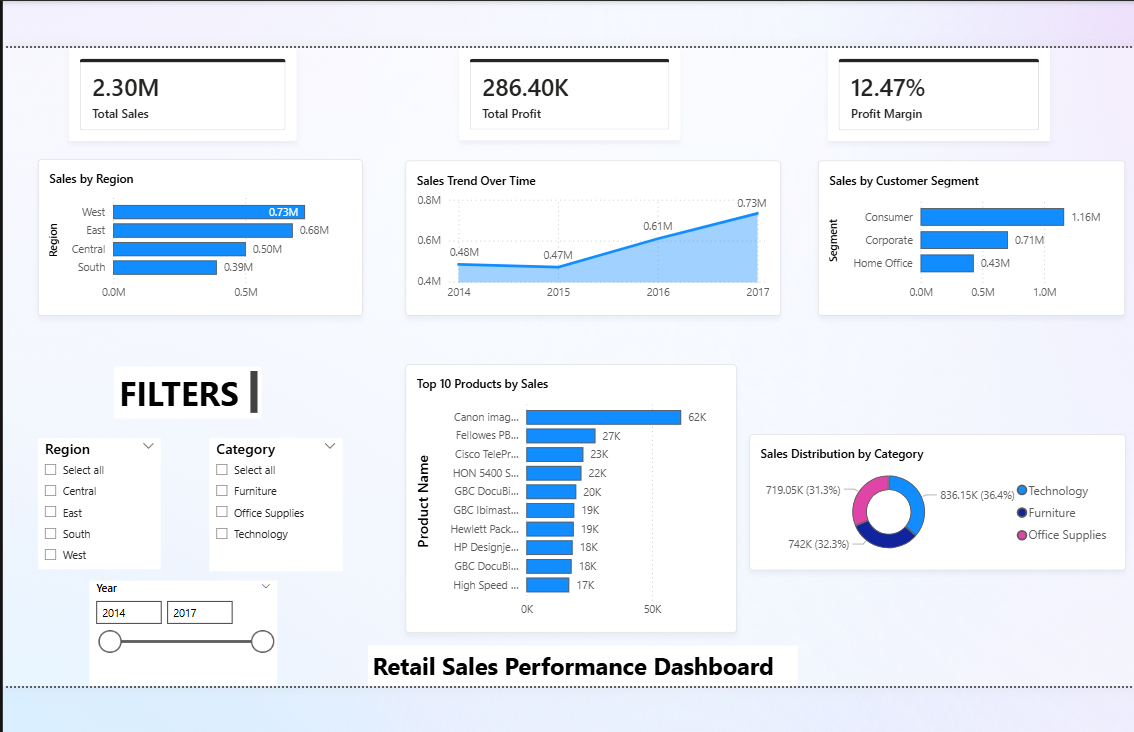

What the dashboard file says about the page in this screenshot:
{"tool":"powerbi","page":{"name":"Page 1","canvas":[1280,720],"ordinal":0},"visuals":[{"type":"cardVisual","fields":{"Data":["clean_superstore.Total Sales"]},"box":[75,0,256.7,105],"z":0},{"type":"cardVisual","fields":{"Data":["clean_superstore.Total Profit"]},"box":[514.7,0,249.6,104.3],"z":1000},{"type":"cardVisual","fields":{"Data":["clean_superstore.Profit Margin"]},"box":[930,0,250,105],"z":2000},{"type":"lineChart","title":"Sales Trend Over Time","fields":{"Category":["clean_superstore.Order Date.Variation.Date Hierarchy.Year","clean_superstore.Order Date.Variation.Date Hierarchy.Quarter","clean_superstore.Order Date.Variation.Date Hierarchy.Month","clean_superstore.Order Date.Variation.Date Hierarchy.Day"],"Y":["clean_superstore.Total Sales"]},"box":[453.3,126.7,423.3,175],"z":3000},{"type":"clusteredBarChart","title":"Sales by Region","fields":{"Y":["clean_superstore.Total Sales"],"Category":["clean_superstore.Region"]},"box":[40,125,366.7,176.7],"z":4000},{"type":"donutChart","title":"Sales Distribution by Category","fields":{"Category":["clean_superstore.Category"],"Y":["clean_superstore.Total Sales"]},"box":[841.7,435,425,153.3],"z":5000},{"type":"clusteredBarChart","title":"Top 10 Products by Sales","fields":{"Y":["clean_superstore.Total Sales"],"Category":["clean_superstore.Product Name"]},"box":[453.3,356.7,373.3,303.3],"z":6000},{"type":"barChart","title":"Sales by Customer Segment","fields":{"Category":["clean_superstore.Segment"],"Y":["clean_superstore.Total Sales"]},"box":[920,126.7,346.7,175],"z":7000},{"type":"slicer","fields":{"Values":["clean_superstore.Region"]},"box":[40,440,138.3,148.3],"z":8000},{"type":"slicer","fields":{"Values":["clean_superstore.Category"]},"box":[233.3,440,150,150],"z":9000},{"type":"slicer","fields":{"Values":["clean_superstore.Year"]},"box":[96.7,600,211.7,120],"z":10000},{"type":"textbox","box":[125,360,166.7,58.3],"z":11000},{"type":"textbox","box":[411.7,673.3,485,46.7],"z":11001}]}

Visuals, with their boxes on the page's 1280x720 design canvas (x1, y1, x2, y2). These are canvas units, not pixel positions in the 1134x732 screenshot, which may show the page scaled, cropped or inside an application window:
cardVisual - clean_superstore.Total Sales: [75, 0, 332, 105]
cardVisual - clean_superstore.Total Profit: [515, 0, 764, 104]
cardVisual - clean_superstore.Profit Margin: [930, 0, 1180, 105]
"Sales Trend Over Time" lineChart: [453, 127, 877, 302]
"Sales by Region" clusteredBarChart: [40, 125, 407, 302]
"Sales Distribution by Category" donutChart: [842, 435, 1267, 588]
"Top 10 Products by Sales" clusteredBarChart: [453, 357, 827, 660]
"Sales by Customer Segment" barChart: [920, 127, 1267, 302]
slicer - clean_superstore.Region: [40, 440, 178, 588]
slicer - clean_superstore.Category: [233, 440, 383, 590]
slicer - clean_superstore.Year: [97, 600, 308, 720]
textbox: [125, 360, 292, 418]
textbox: [412, 673, 897, 720]
